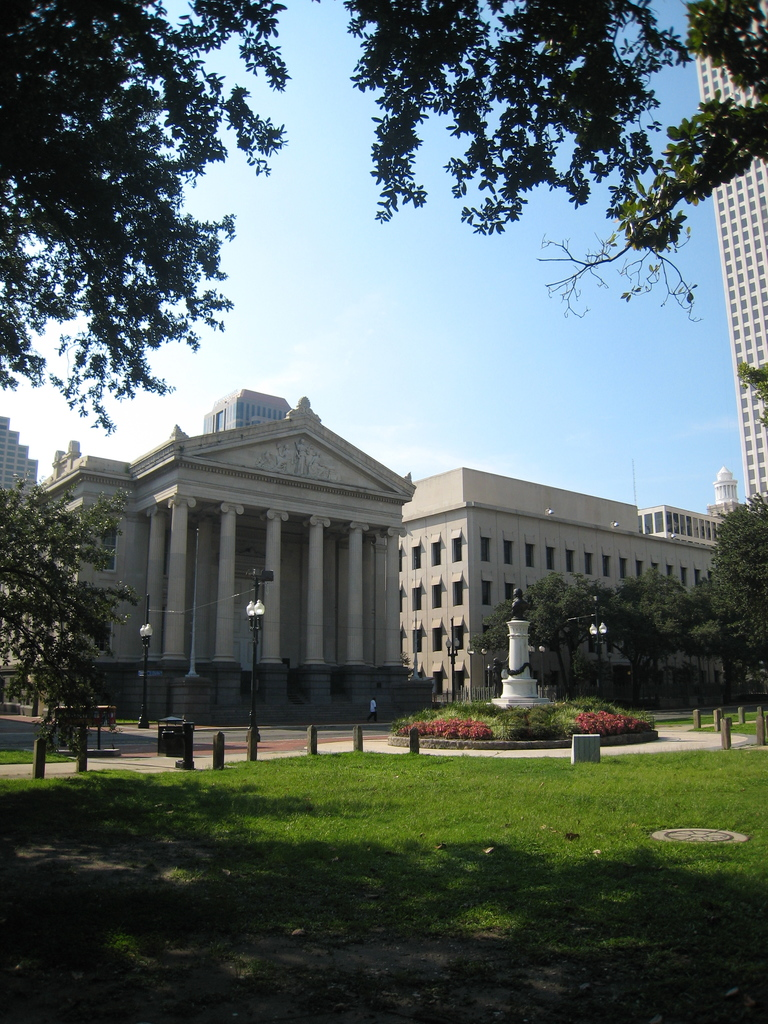Tree: (0, 0, 768, 759)
